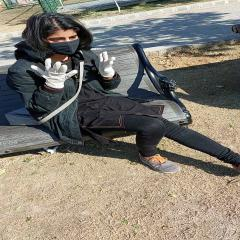gloved: (32, 58, 77, 88), (96, 52, 116, 78)
